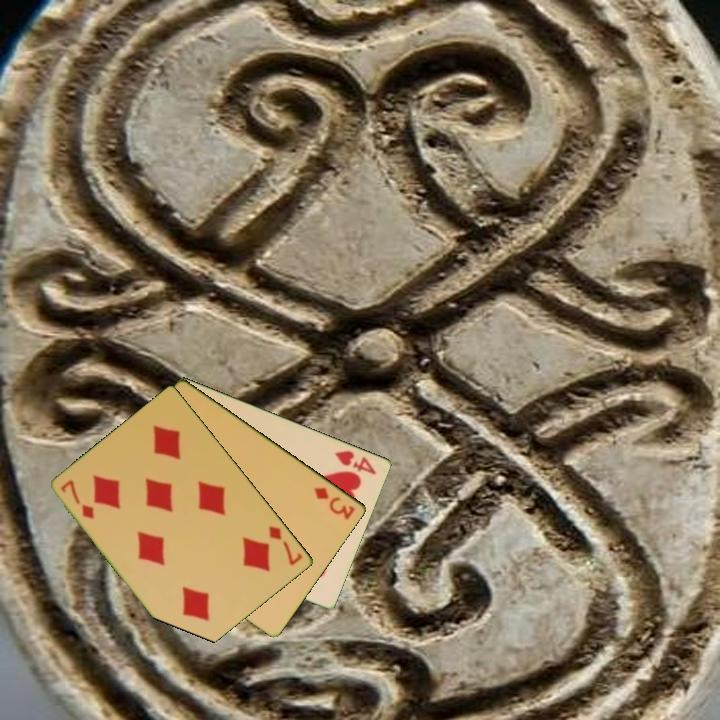3d: (311, 483, 358, 523)
4h: (331, 447, 380, 477)
7d: (57, 476, 98, 522), (266, 522, 306, 568)
